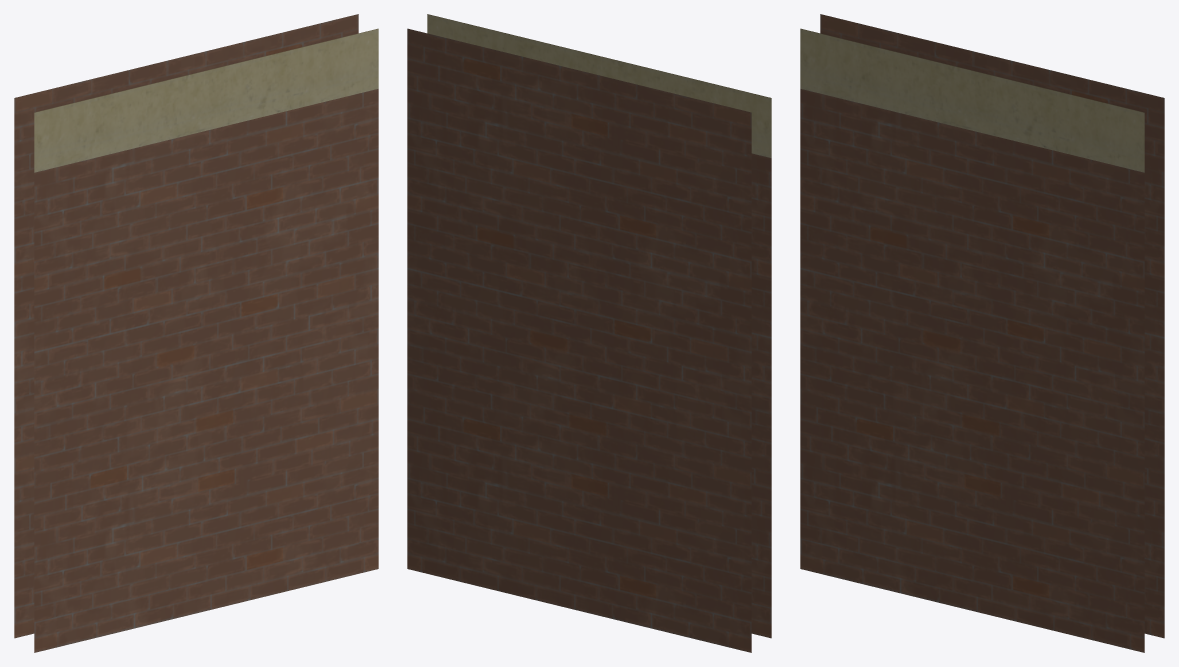
File: brick_toptrim.glb
3 views of the same model, side by side, from view 1: azimuth 30°, elevation 25°; view 2: azimuth 150°, elevation 25°; view 3: azimuth 330°, elevation 25° (orthographic).
Parts seen in each view (by area): view 1: Brick_TopTrim; view 2: Brick_TopTrim; view 3: Brick_TopTrim.
Boxes of the visible parts, bbox=[...] form: Brick_TopTrim: bbox=[14, 14, 378, 652]; Brick_TopTrim: bbox=[407, 14, 771, 652]; Brick_TopTrim: bbox=[800, 14, 1164, 652].
Size of the model in its own units: 2 by 3 by 0.2.
Materials: 3 (3 with a texture image).
